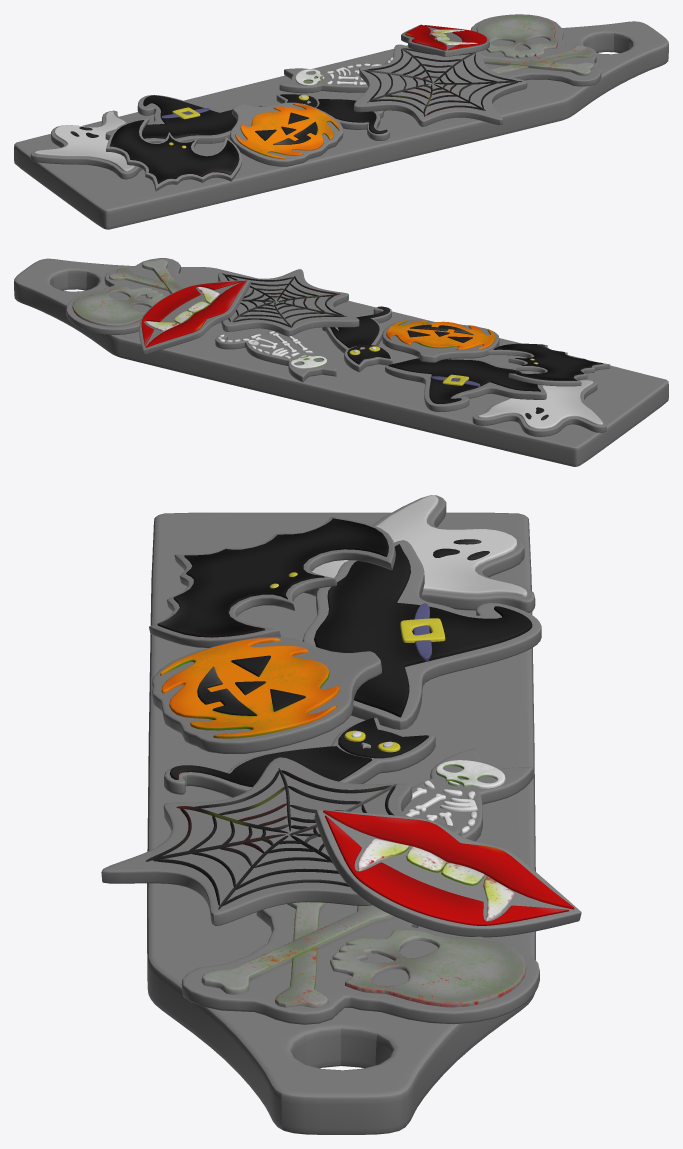
Rendered from haloween pack.fbx.
The picture shows the model from 3 angles, top to bottom: view 1: azimuth 30°, elevation 25°; view 2: azimuth 150°, elevation 25°; view 3: azimuth 270°, elevation 25°; orthographic projection. The views are drawn at different scales.
Parts seen in each view (by area): view 1: Doska_Complete, Object015, Object005, Object006, Object009, Object003, Object008, Object013, Object007, Object012, Object016, Object002 (+5 smaller); view 2: Doska_Complete, Object015, Object005, Object004, Object008, Object016, Object007, Object002, Object006, Object013, Object003, Object010 (+5 smaller); view 3: Doska_Complete, Object015, Object005, Object008, Object013, Object004, Object006, Object009, Object002, Object014, Object012, Object007 (+5 smaller).
Part boxes in pixels (x1,y1,x2,y2): Doska_Complete: (14, 21, 668, 229); Object015: (354, 44, 527, 126); Object005: (476, 15, 593, 76); Object006: (235, 103, 339, 159); Object009: (110, 120, 239, 183); Object003: (363, 48, 521, 116); Object008: (142, 95, 262, 138); Object013: (470, 14, 601, 86); Object007: (34, 111, 135, 171); Object012: (229, 102, 343, 166); Object016: (276, 57, 393, 140); Object002: (280, 57, 393, 133); Doska_Complete: (14, 258, 668, 466); Object015: (218, 269, 359, 336); Object005: (72, 259, 185, 326); Object004: (141, 280, 246, 347); Object008: (388, 358, 540, 403); Object016: (215, 307, 392, 382); Object007: (477, 380, 603, 429); Object002: (218, 306, 390, 368); Object006: (386, 320, 494, 349); Object013: (66, 258, 192, 334); Object003: (222, 273, 346, 327); Object010: (385, 358, 546, 411); Doska_Complete: (147, 512, 535, 1134); Object015: (101, 757, 461, 925); Object005: (201, 902, 526, 1007); Object008: (314, 544, 532, 717); Object013: (181, 903, 539, 1024); Object004: (323, 810, 574, 925); Object006: (160, 638, 339, 738); Object009: (157, 518, 388, 637); Object002: (170, 718, 505, 833); Object014: (314, 809, 581, 937); Object012: (152, 637, 381, 753); Object007: (312, 495, 527, 596).
Size of the model in its own units: 20613 by 1878 by 7097.
